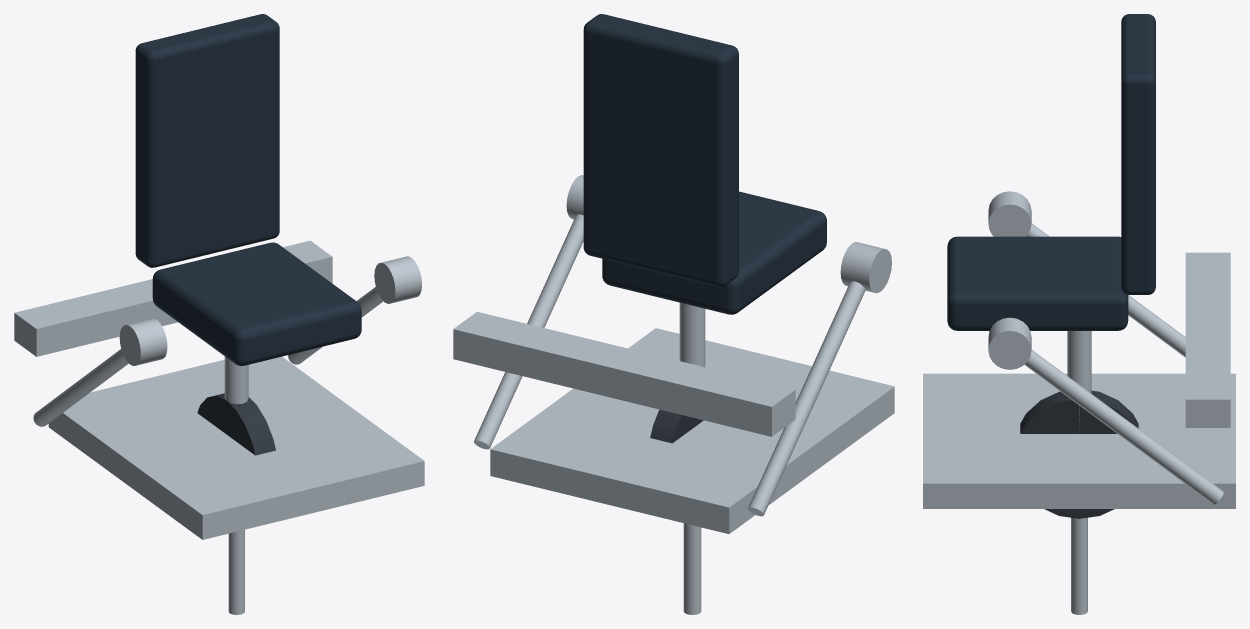
File: plate_machine_row.glb
3 views of the same model, side by side, from view 1: azimuth 30°, elevation 25°; view 2: azimuth 150°, elevation 25°; view 3: azimuth 270°, elevation 25° (orthographic). The views are drawn at different scales.
Parts seen in each view (by area): view 1: base, back, seat, pivotBridge, LweightPlate, Lsupport, Rpivot, Lpivot, Llink, post, Rsupport; view 2: back, base, pivotBridge, seat, Lsupport, Rsupport, Lpivot, Llink, post, LweightPlate, Rpivot; view 3: base, seat, back, pivotBridge, Rsupport, LweightPlate, Rpivot, Lpivot, Llink, Lsupport, post.
Boxes of the visible parts, box(x1,y1,x2,y2) form: base: box(48, 356, 424, 539); back: box(135, 14, 279, 267); seat: box(152, 242, 361, 365); pivotBridge: box(14, 240, 332, 356); LweightPlate: box(197, 393, 275, 455); Lsupport: box(33, 349, 128, 426); Rpivot: box(374, 256, 421, 303); Lpivot: box(119, 318, 167, 365); Llink: box(228, 529, 244, 614); post: box(224, 356, 248, 404); Rsupport: box(288, 287, 383, 364); back: box(583, 14, 738, 287); base: box(490, 328, 894, 533); pivotBridge: box(453, 311, 795, 436); seat: box(602, 191, 826, 314); Lsupport: box(748, 281, 865, 516); Rsupport: box(474, 214, 583, 449); Lpivot: box(840, 242, 891, 293); Llink: box(683, 523, 701, 614); post: box(679, 302, 705, 367); LweightPlate: box(650, 409, 703, 443); Rpivot: box(566, 175, 583, 219); base: box(923, 373, 1235, 508); seat: box(947, 236, 1128, 330); back: box(1121, 14, 1155, 294); pivotBridge: box(1185, 252, 1230, 427); Rsupport: box(1024, 350, 1223, 504); LweightPlate: box(1020, 390, 1138, 518); Rpivot: box(988, 317, 1031, 369); Lpivot: box(988, 191, 1031, 236); Llink: box(1071, 517, 1087, 614); Lsupport: box(1026, 223, 1185, 357); post: box(1067, 331, 1091, 433).
Bounding box in the file's own units: 1 × 1.8 × 0.9.
